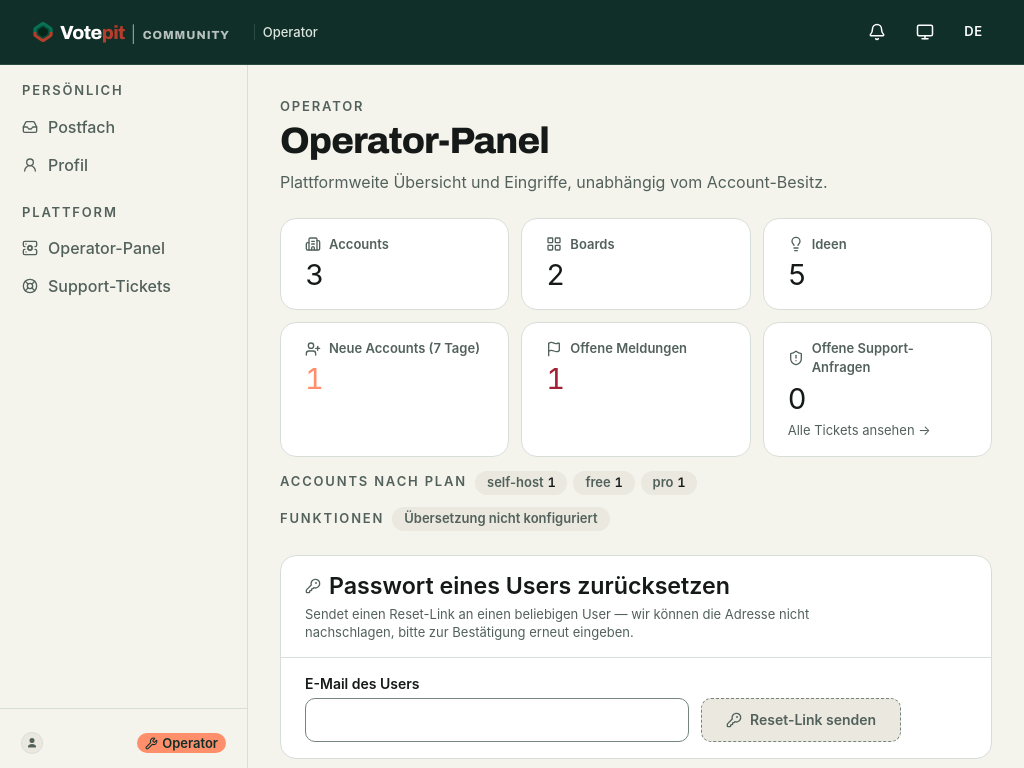
it: OperatorPage — password reset › sends a reset link for the re-typed email
The width and height of the screenshot is (1024, 768).
Type "someone@example.com" into the field labelled "E-Mail des Users". click: (497, 720)
box: [305,698,689,742]
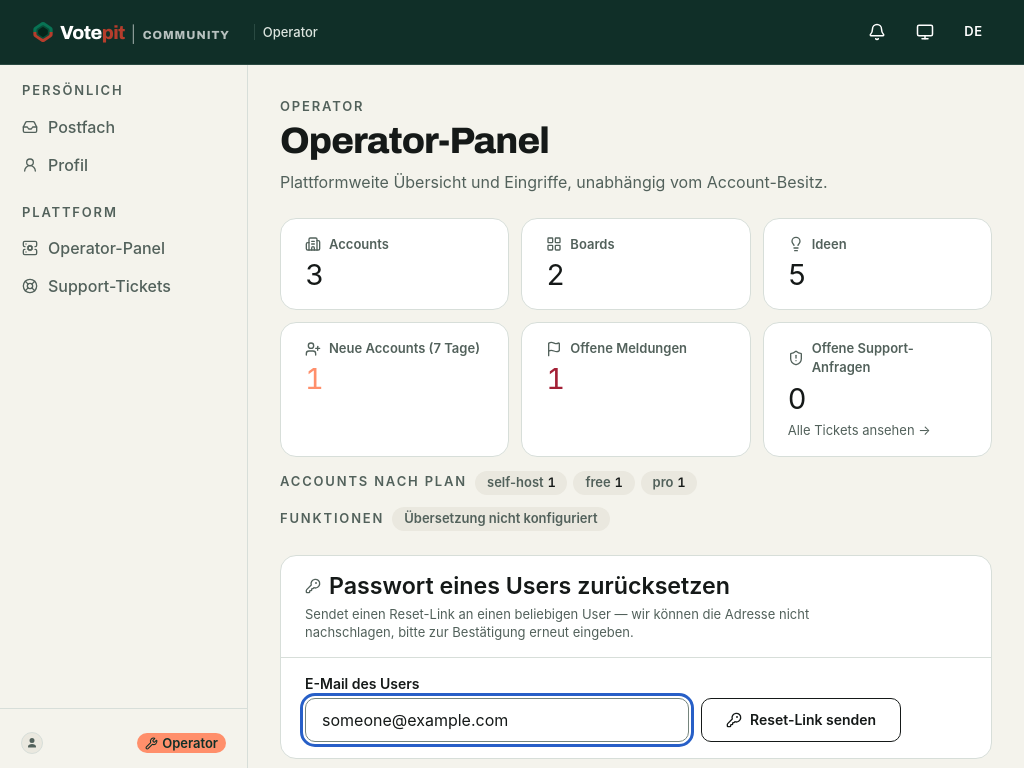
Click the button "Reset-Link senden". click: (801, 720)
box: [701,698,901,742]
(page scrolled)
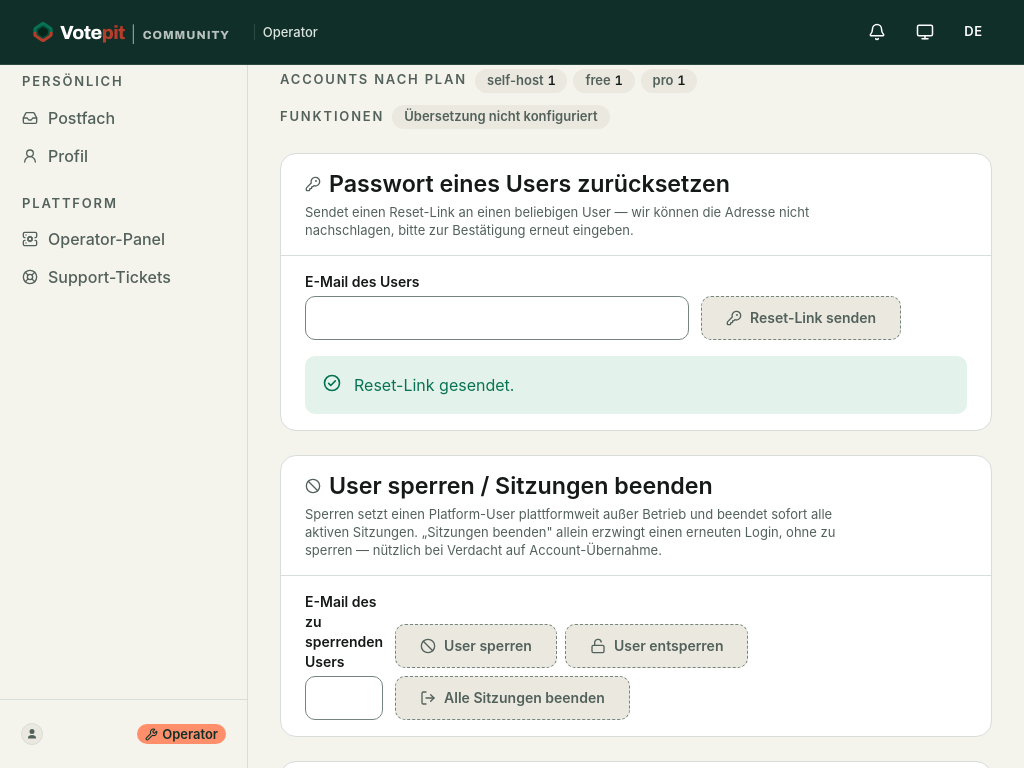
Expected: the text "Reset-Link gesendet." is shown, [354,375,514,395]
